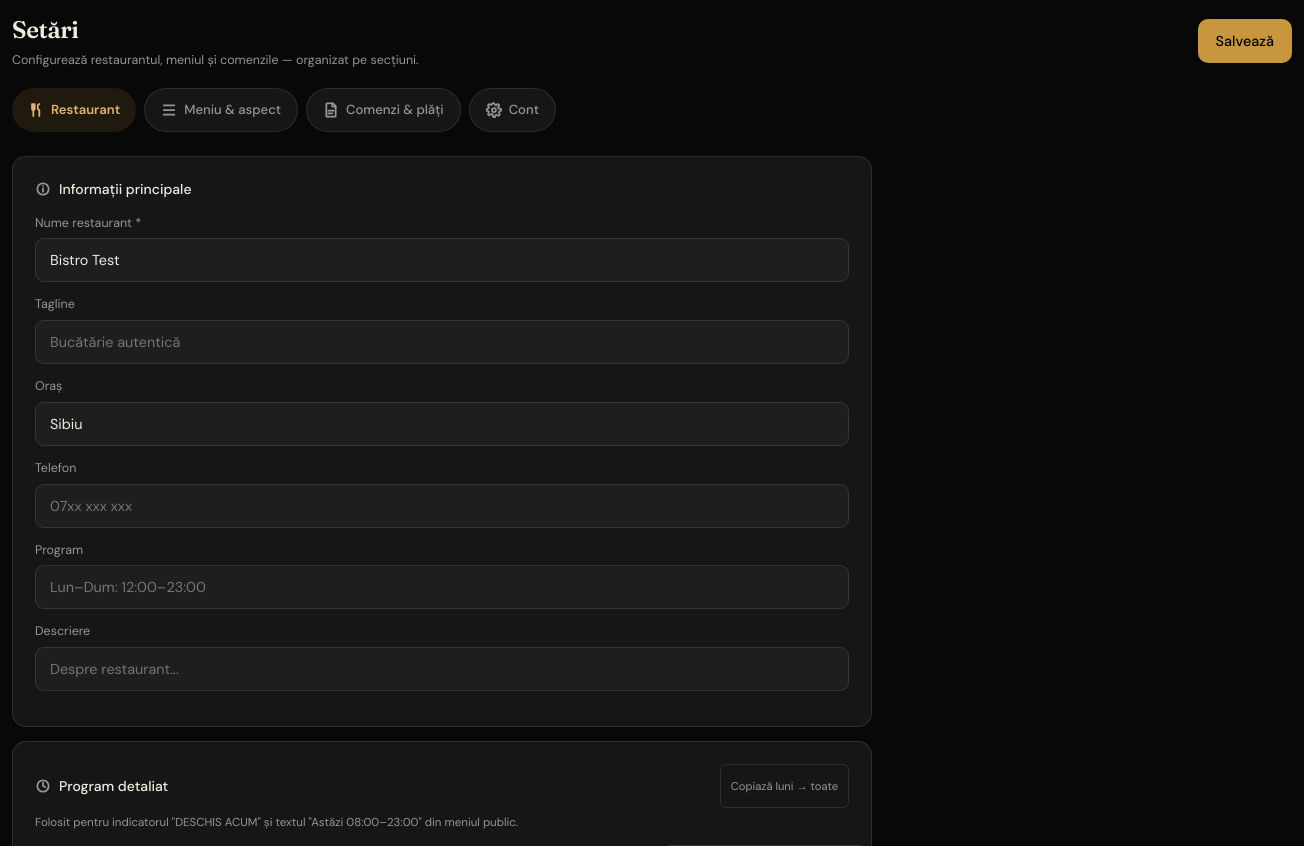
SettingsTab — nota flipbook despre comanda din meniu › PS5a: plan fără ridicare, cu ridicarea pornită (downgrade) — fără notă
Click the tab "Meniu & aspect" at (221, 110), box [144,88,298,132]
(page scrolled)
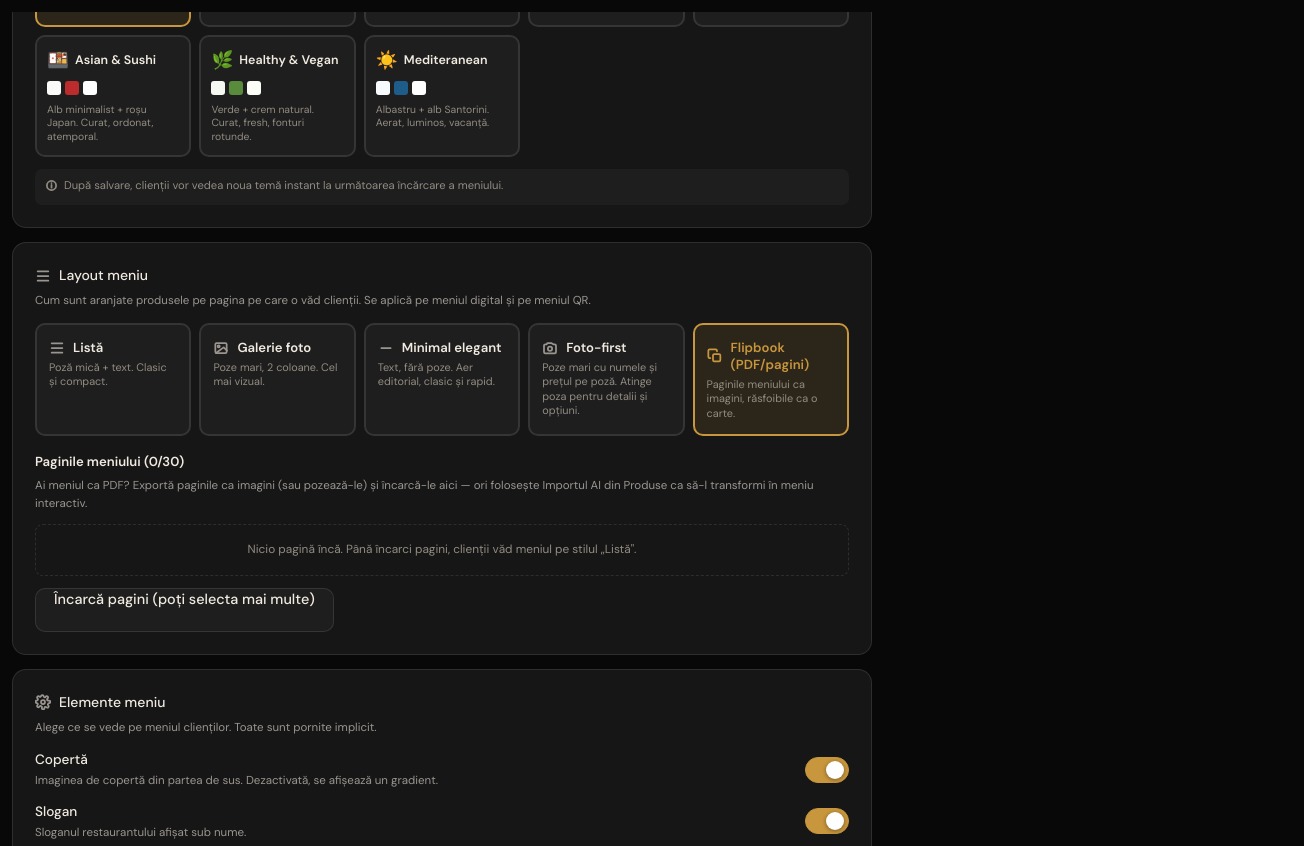
Now the text "Paginile meniului (0/30)" is shown, box [35,453,184,470]
